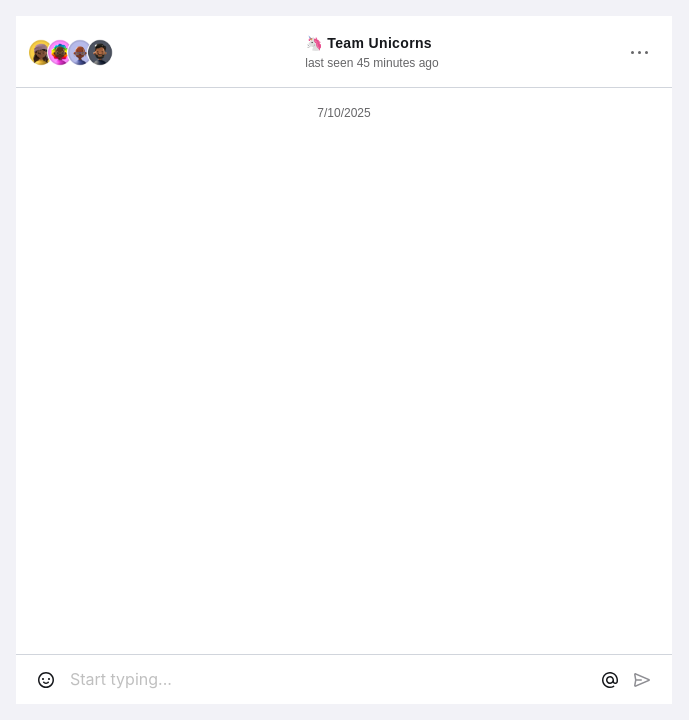
Test: Chat Integration Tests › should receive a response from the bot after sending a message
Step 1. Type "A message for the bot" into the text box with placeholder "Start typing..." → [328, 680], box [70,667,586,692]
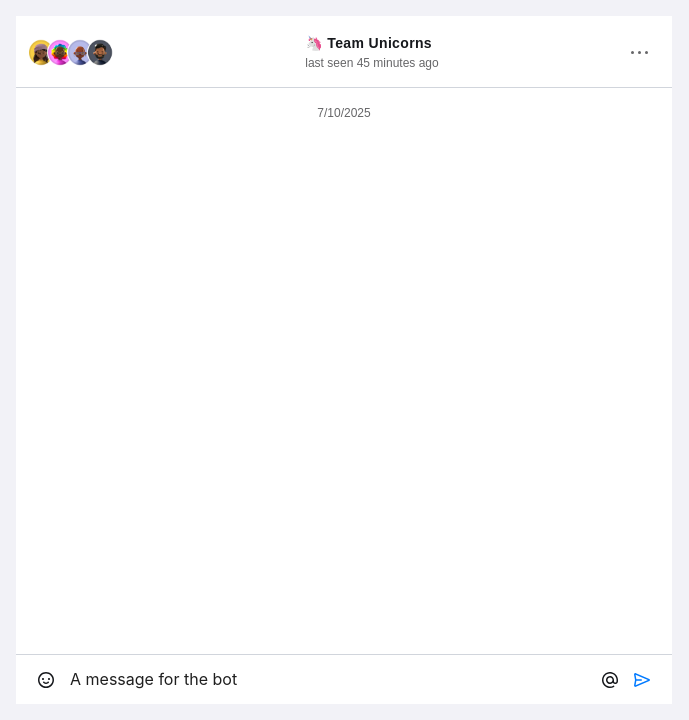
Step 2. Click the button named "send" → [642, 682], box [634,672,650,692]
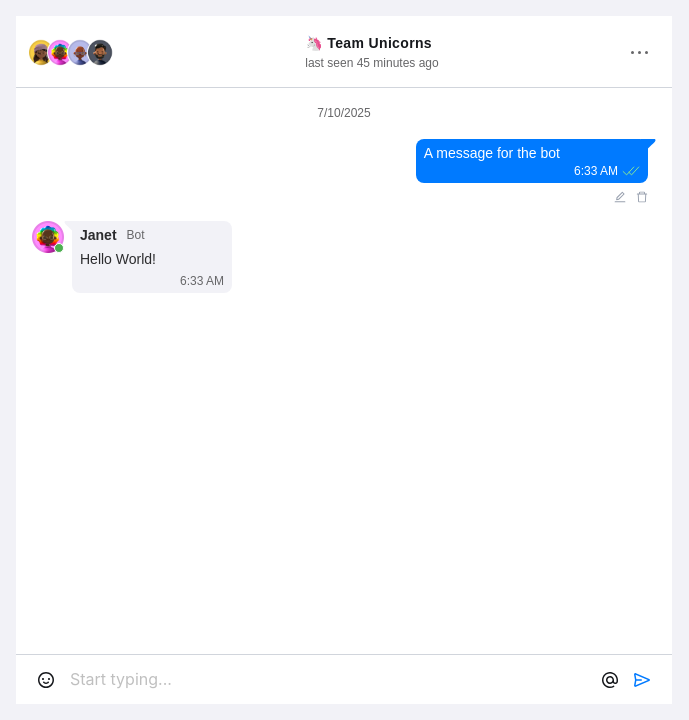
Expected: the text "A message for the bot" is shown, [424,143,560,163]
Expected: the text "Hello World!" is shown, [80,251,156,267]
